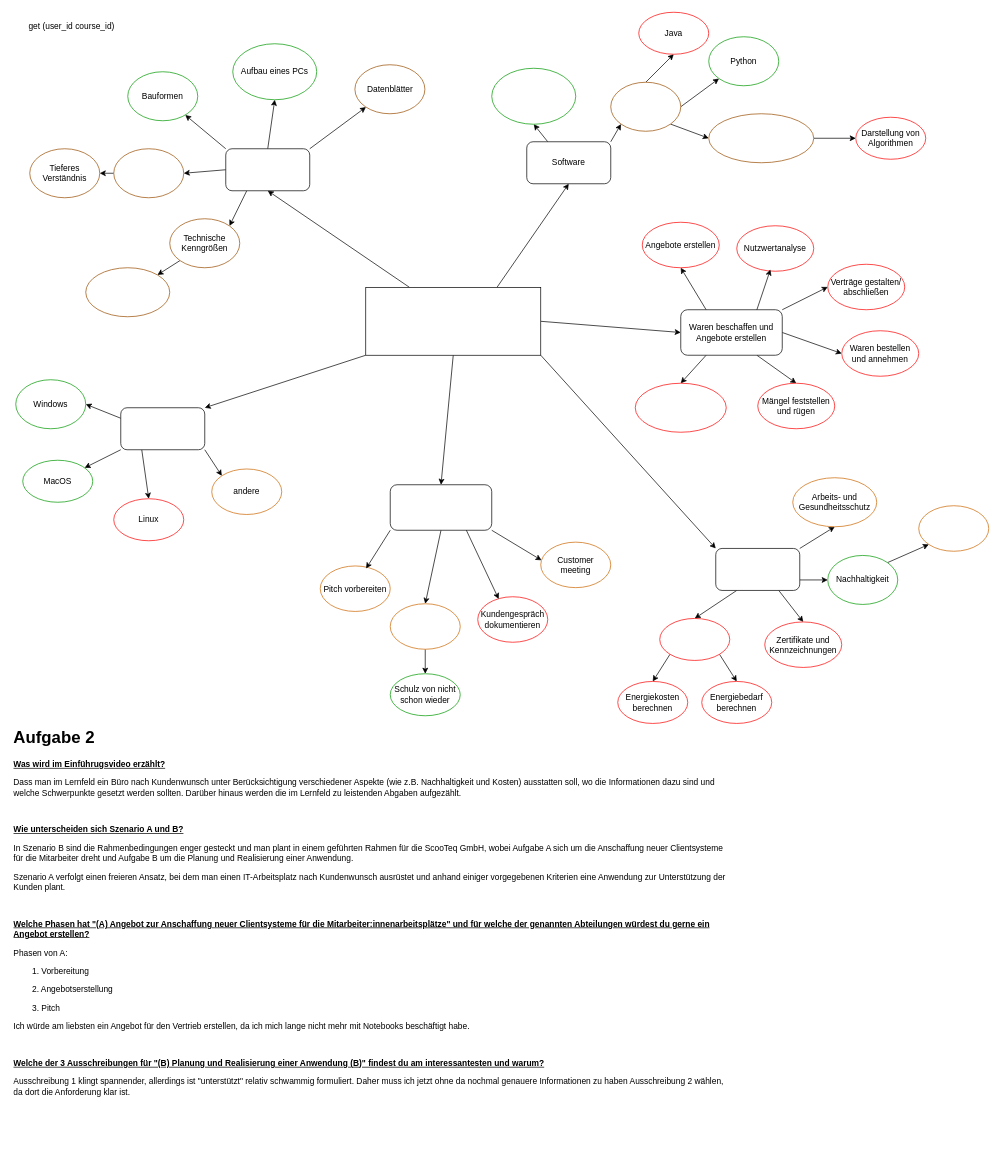
This 1001x1164 diagram has some shape labels left out. Each missing label, with the centre of its shape:
"andere Themen" goes at point (757, 569).
"Anwendungen entwickeln" goes at point (645, 106).
"Betriebssysteme" goes at point (162, 428).
"Gesprächsrahmen" goes at point (425, 626).
"Green IT" goes at point (953, 528).
"Grundlagen Elektrotechnik" goes at point (694, 639).
"Hardware" goes at point (267, 169).
"Individuelle hardwarespezifische Kenngrößen" goes at point (127, 292).
"Kundenkommunikation" goes at point (441, 507).
"Lernfeld 2" goes at point (453, 321).
"Mit Kaufvertragsstörungen umgehen" goes at point (680, 407).
"Software auswählen und einrichten" goes at point (533, 96).
"Struktogramme / Programmablaufpläne" goes at point (761, 138).
"Wie funktionieren die Bauteile?" goes at point (148, 173).
